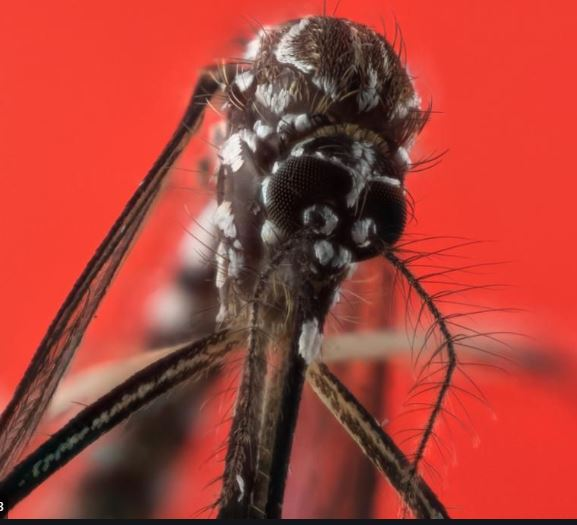dengue_mosquito: (1, 1, 531, 517)
